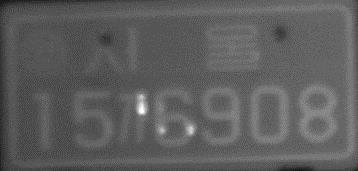0: (245, 83, 293, 146)
1: (28, 90, 60, 155)
5: (71, 89, 116, 151)
6: (153, 86, 198, 151)
8: (295, 82, 339, 144)
9: (200, 84, 244, 149)
가: (115, 90, 152, 144)
서울_D: (81, 22, 263, 83)
영: (20, 27, 71, 80)
